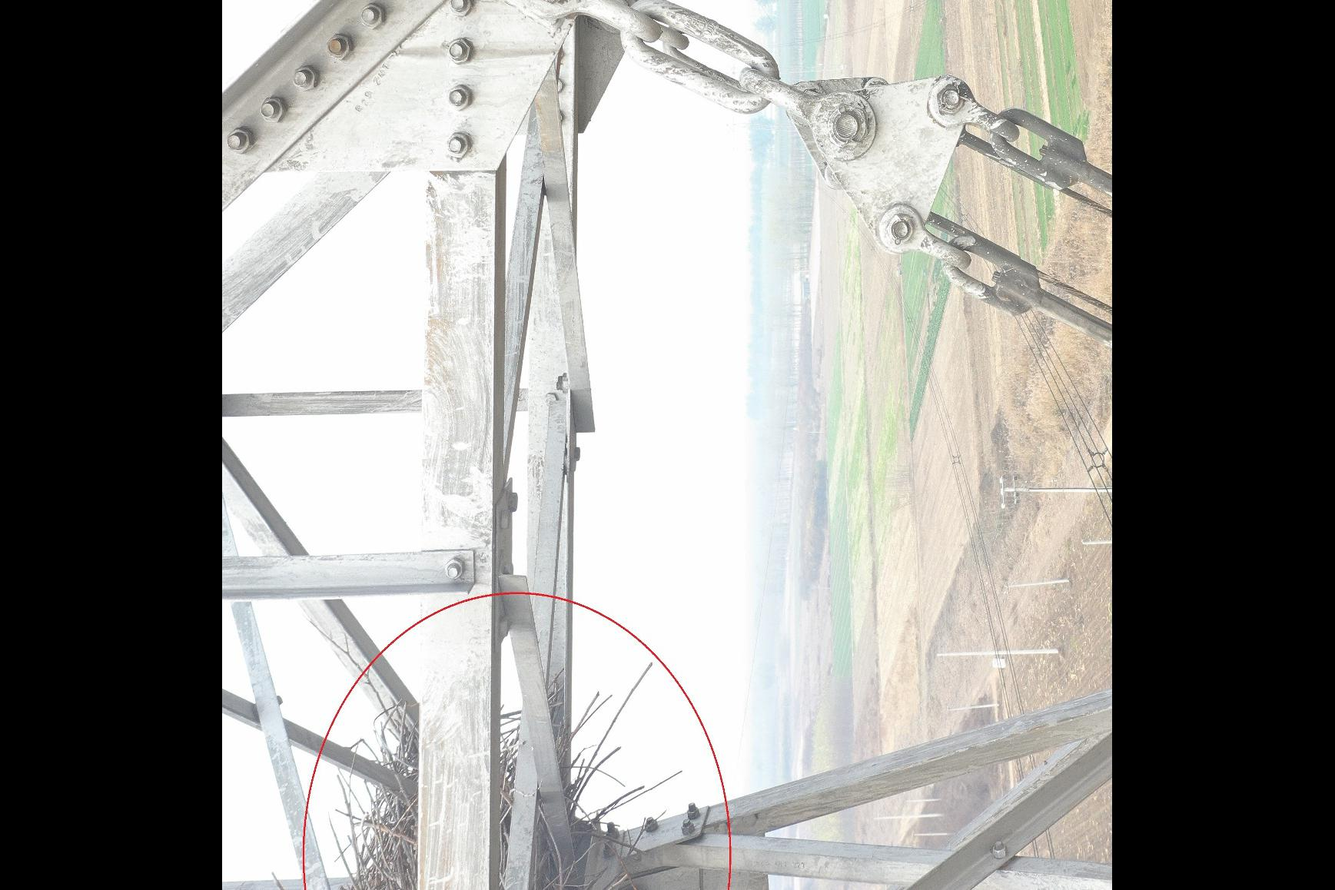nest: (329, 688, 652, 890)
